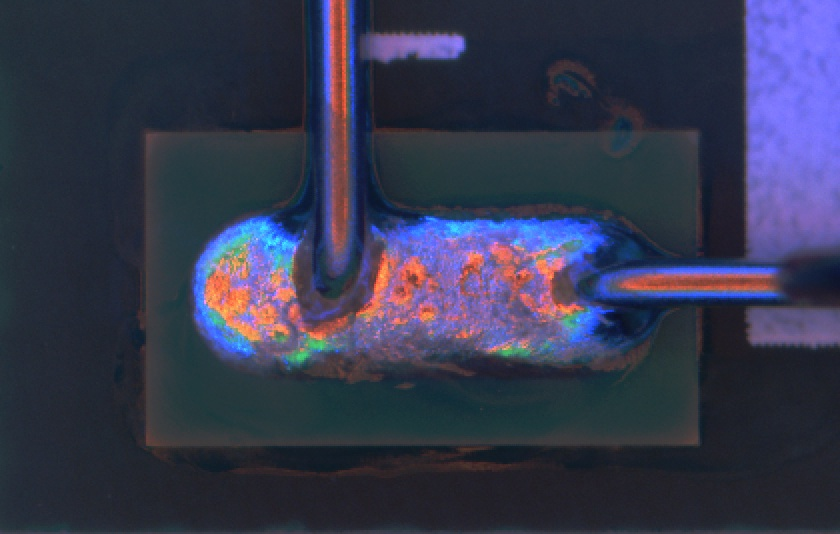spring: (304, 1, 365, 313), (572, 250, 840, 314)
spring_pin: (192, 214, 659, 370)
